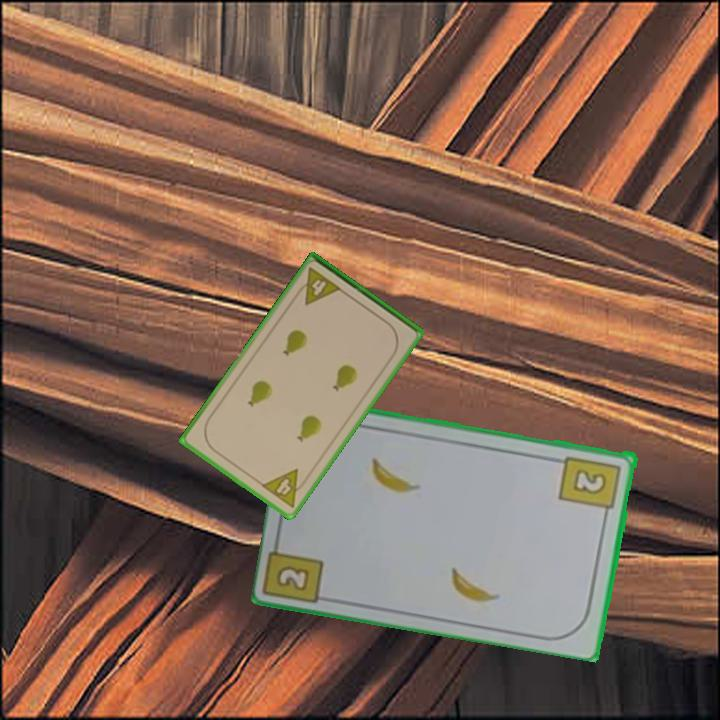2b: (557, 452, 624, 521), (276, 564, 310, 591)
4p: (258, 465, 312, 511), (292, 264, 344, 308)
